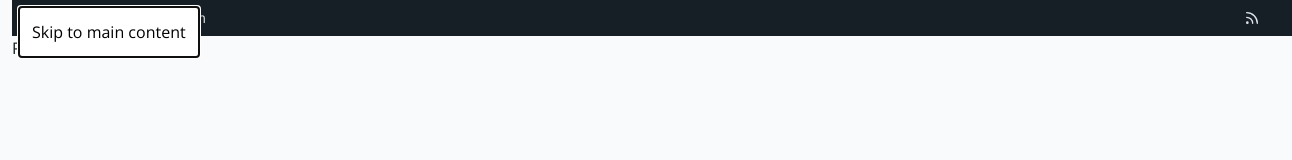
Test case: TopBar skip to main content › moves focus and scroll to the current main landmark on activation
Click the link "Skip to main content". click: (109, 32)
box: [20,8,198,56]
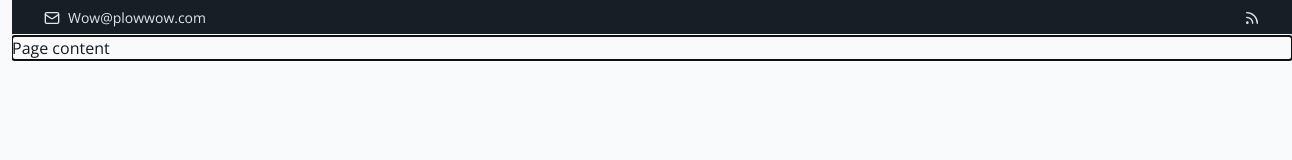
Expected: the text "Page content" has attribute tabindex="-1", [12,37,110,59]
